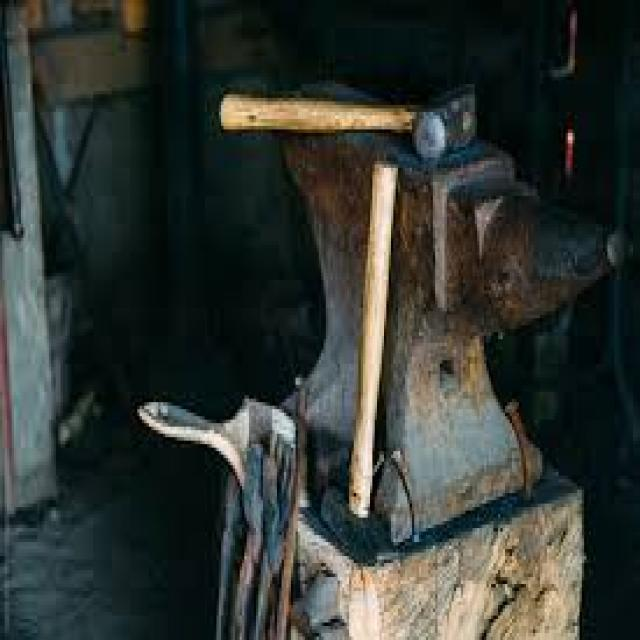hammer: (318, 130, 401, 570), (213, 42, 490, 161)
